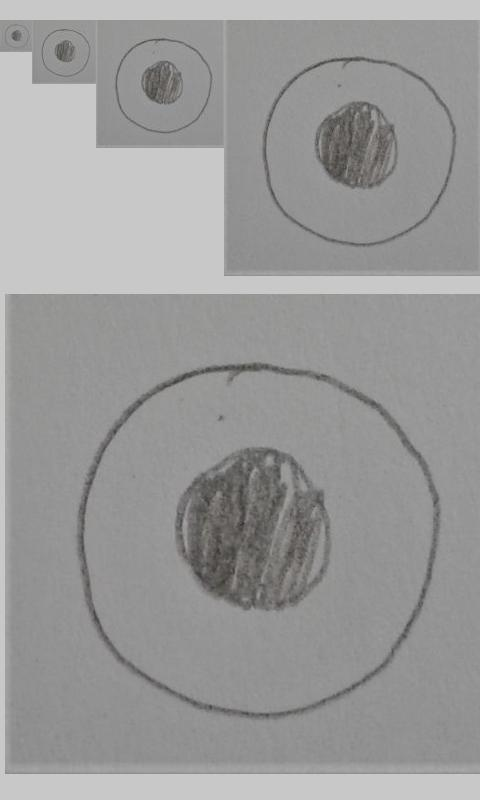radio_button: (76, 361, 442, 722), (260, 53, 460, 248), (113, 37, 214, 134), (40, 28, 91, 78), (4, 23, 30, 49)
